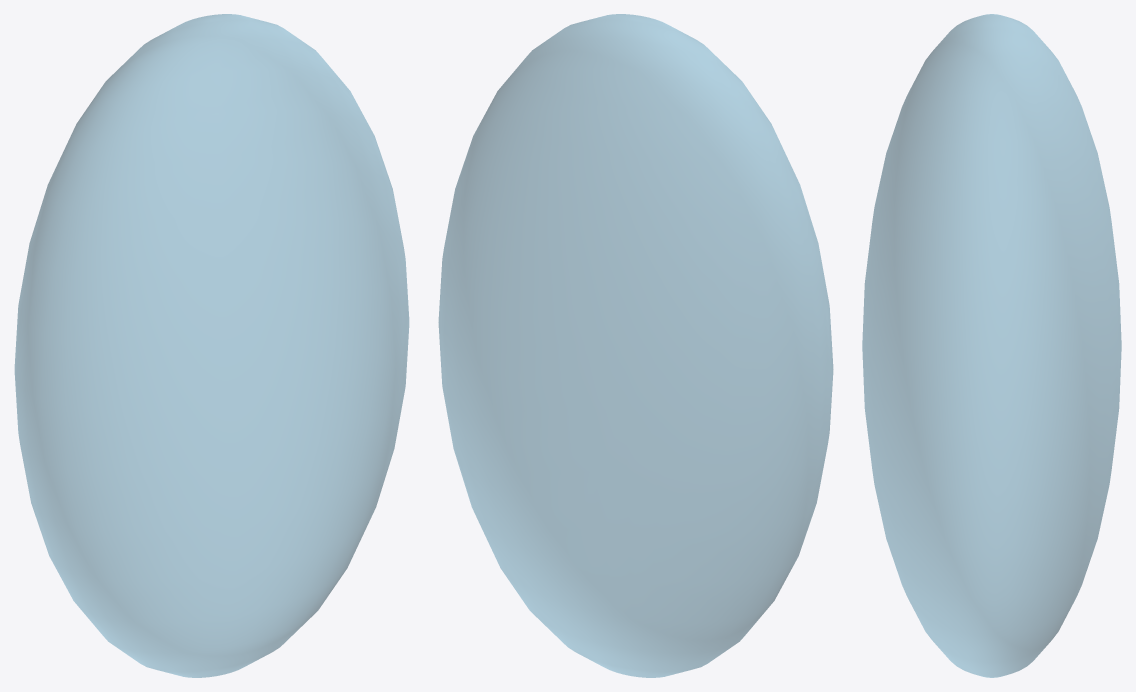
File: Body_Silhouette.fbx
3 views of the same model, side by side, from view 1: azimuth 30°, elevation 25°; view 2: azimuth 150°, elevation 25°; view 3: azimuth 270°, elevation 25° (orthographic).
Visible parts, largest first — view 1: Body_Silhouette; view 2: Body_Silhouette; view 3: Body_Silhouette.
Boxes of the visible parts, box(x1,y1,x2,y2) form: Body_Silhouette: box(14, 14, 409, 677); Body_Silhouette: box(438, 14, 833, 677); Body_Silhouette: box(862, 14, 1121, 677).
Size of the model in its own units: 1.8 by 3 by 1.1.
